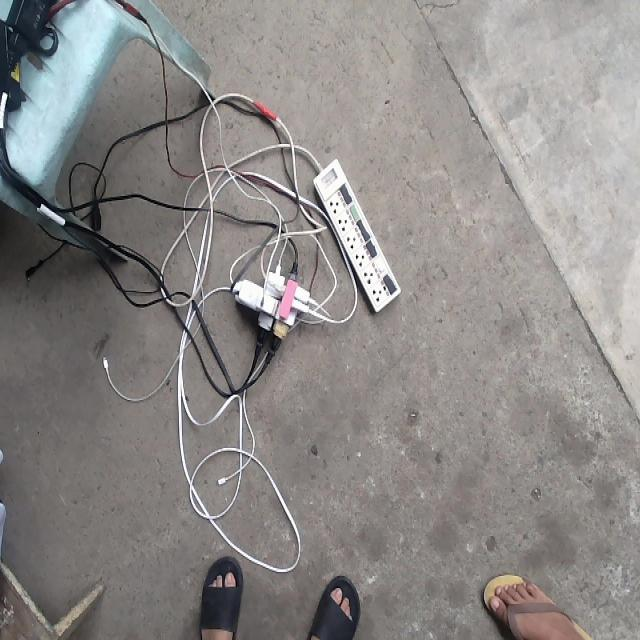-: (233, 251, 313, 352)
